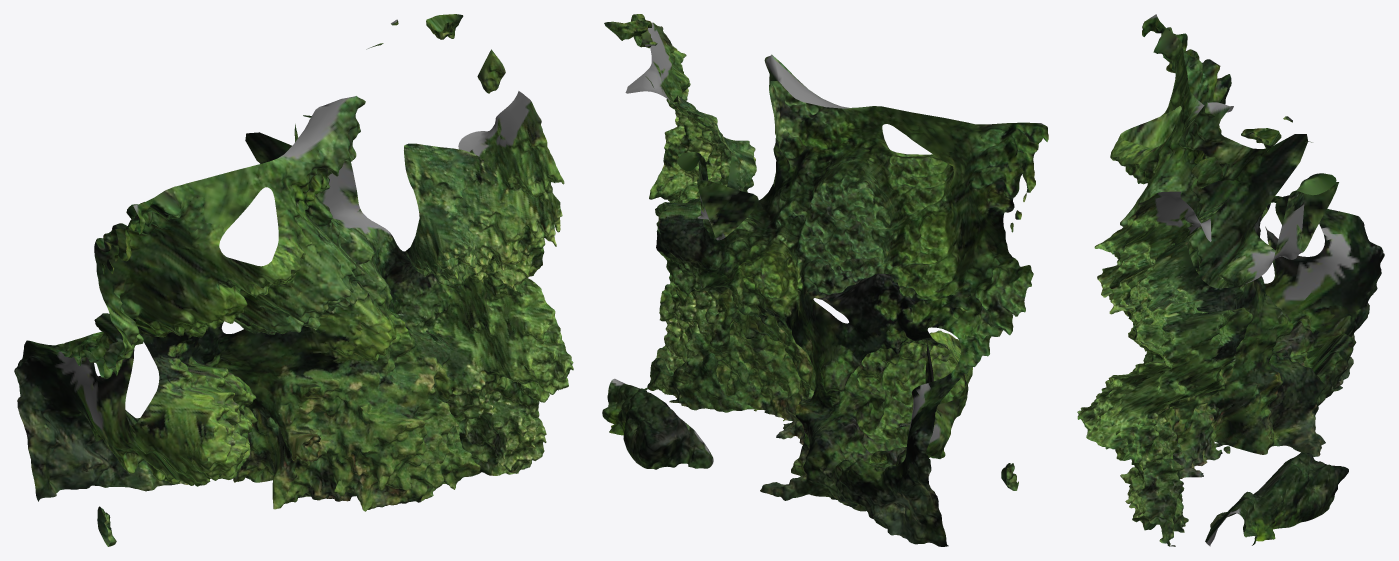
File: Tile_+003_+028.fbx
The picture shows the model from 3 angles, left to right: view 1: azimuth 30°, elevation 25°; view 2: azimuth 150°, elevation 25°; view 3: azimuth 270°, elevation 25°; orthographic projection. The views are drawn at different scales.
Visible parts, largest first — view 1: DefaultName; view 2: DefaultName; view 3: DefaultName.
Part boxes in pixels (x1=…): DefaultName: x1=14, y1=14, x2=573, y2=546; DefaultName: x1=602, y1=14, x2=1048, y2=546; DefaultName: x1=1077, y1=14, x2=1384, y2=546.
Bounding box in the file's own units: 22.54 × 22.54 × 15.81.
